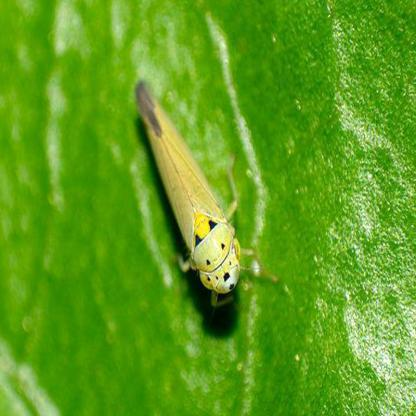green-leafhopper: (134, 81, 260, 304)
